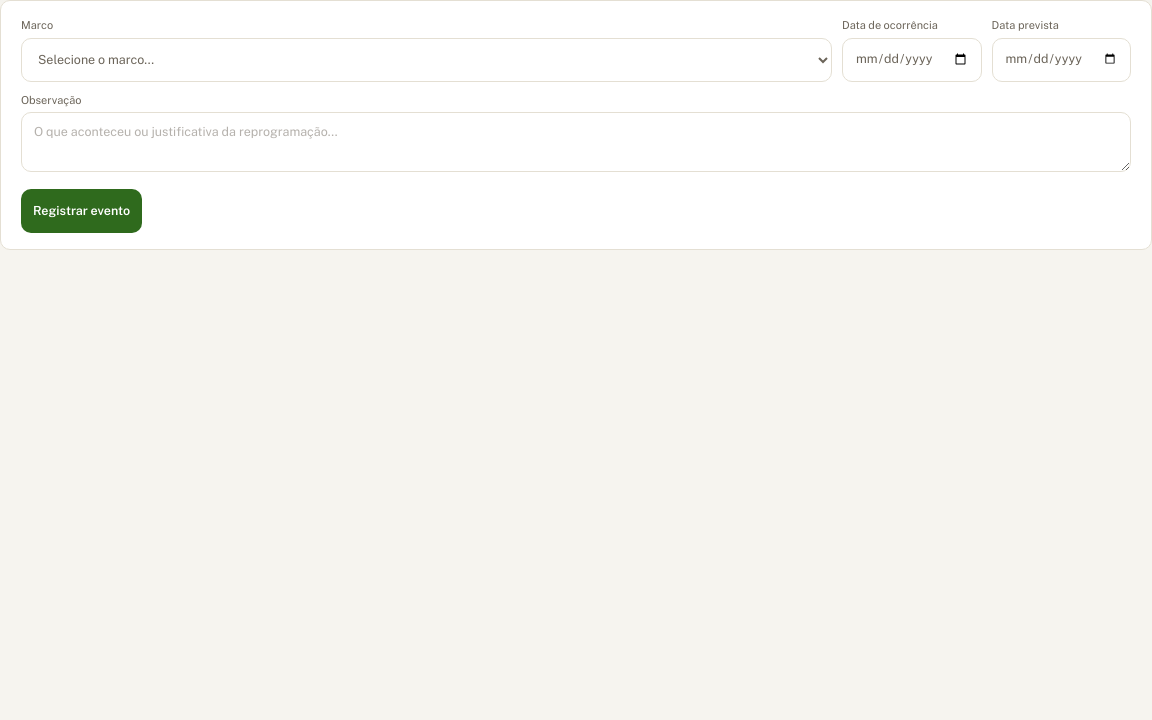
Test: MonitoramentoInternoFormEvento › falha ao confirmar mantém o diálogo e permite nova tentativa sem erro não tratado
Select "Concluído" in the dropdown labelled "Marco" at coordinates (426, 60), box [21,38,832,82]
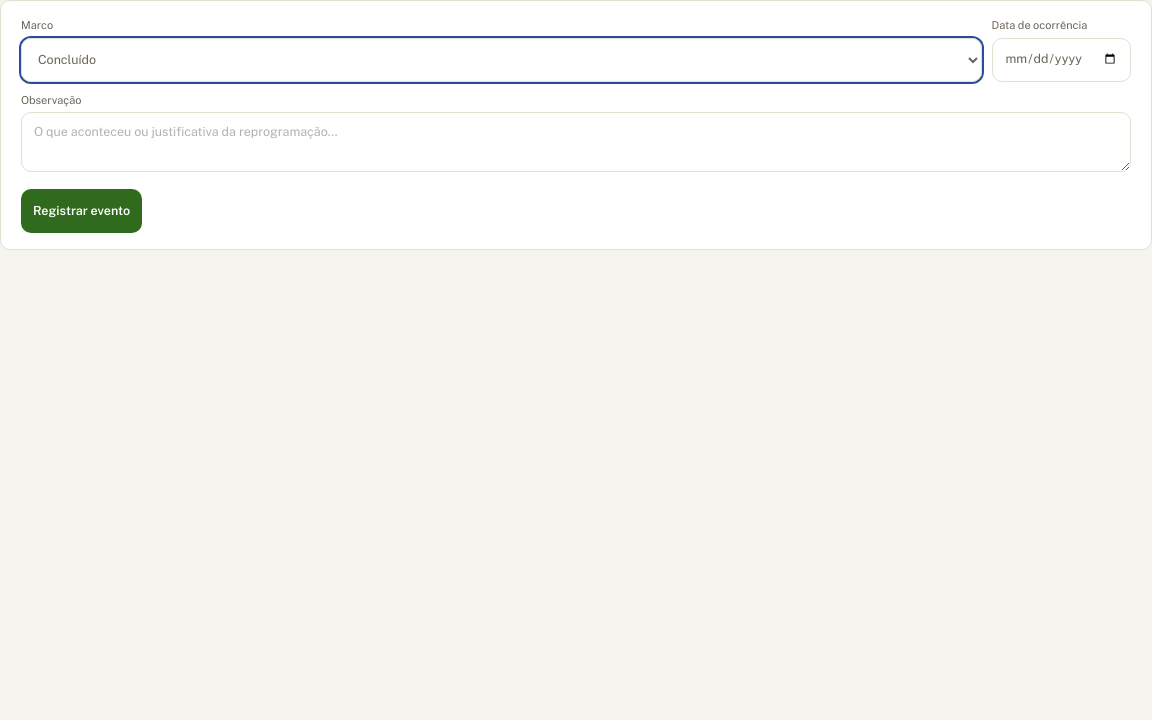
Type "2026-10-19" into the date field labelled "Data de ocorrência" at coordinates (1061, 60), box [992,38,1131,82]
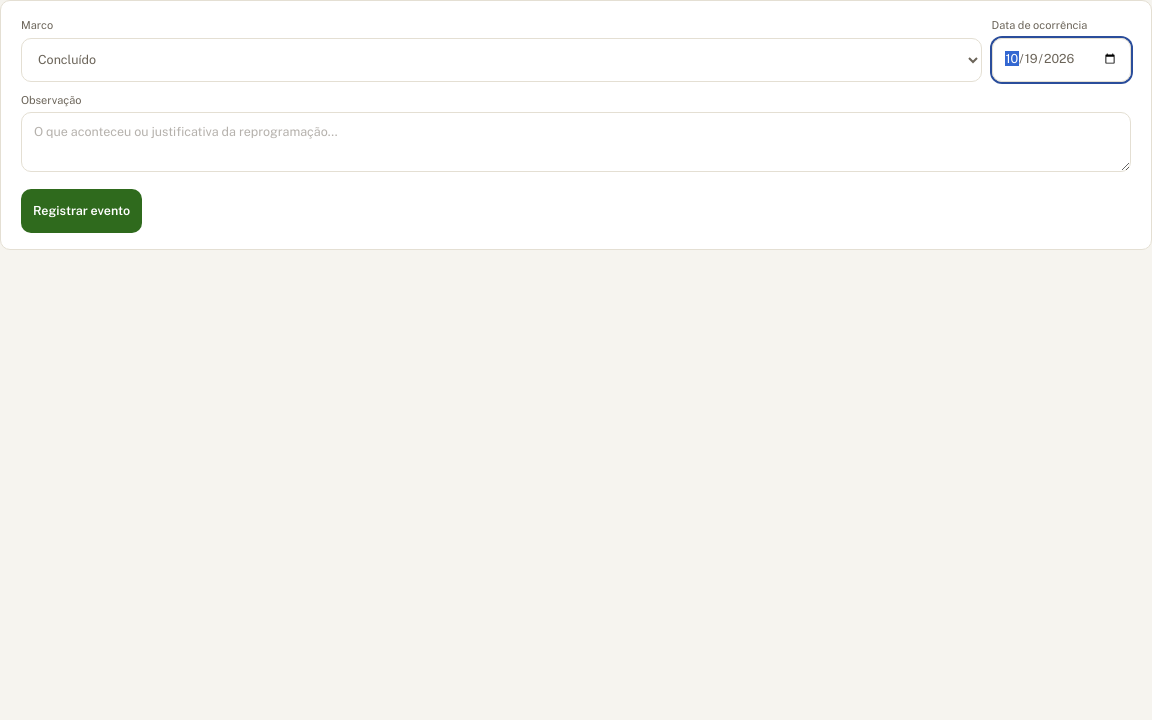
Click the button "Registrar evento" at coordinates (82, 211), box [21,189,142,233]
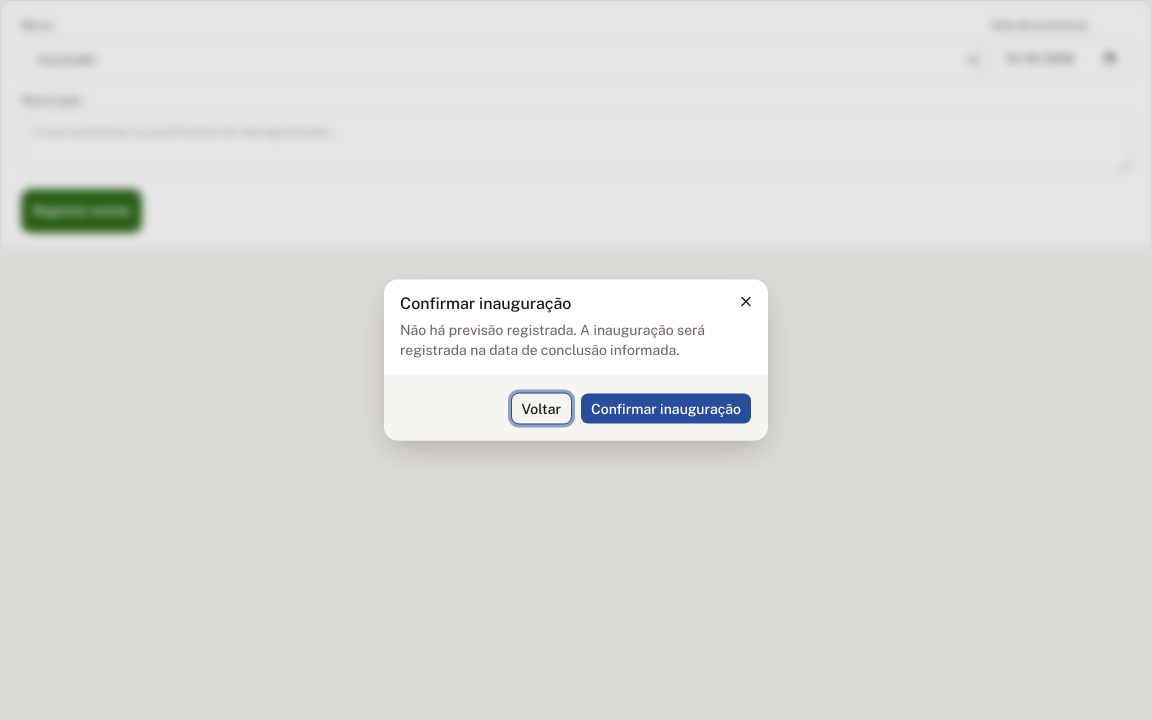
Click the button "Confirmar inauguração" at coordinates (666, 408), box [580,392,752,424]
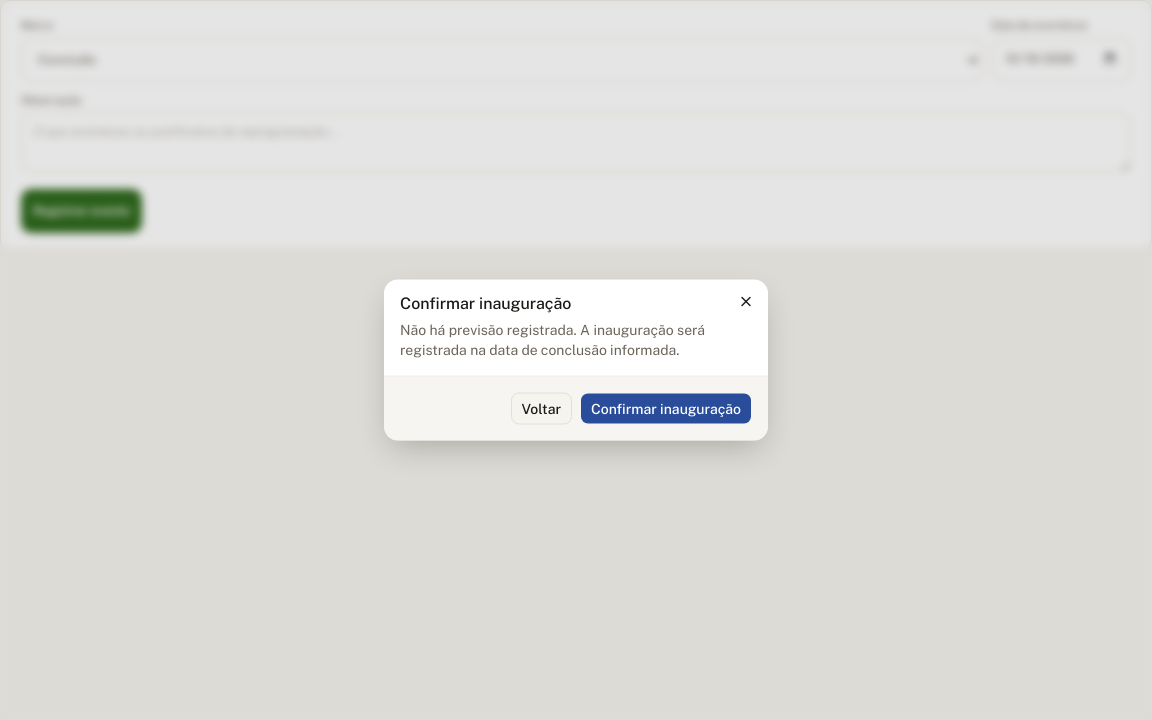
Check: the button "Confirmar inauguração" is enabled
Check: the dialog is shown, box [384,280,768,440]
Click the button "Confirmar inauguração" at coordinates (666, 408), box [580,392,752,424]
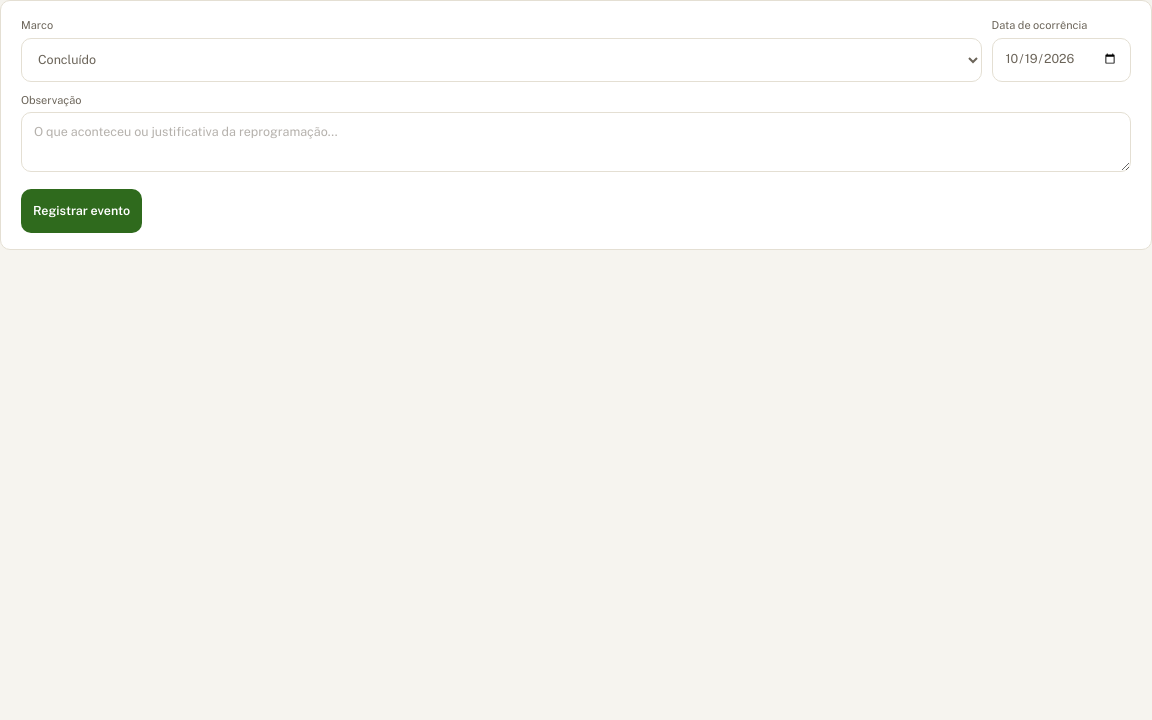
Check: the dialog is gone
